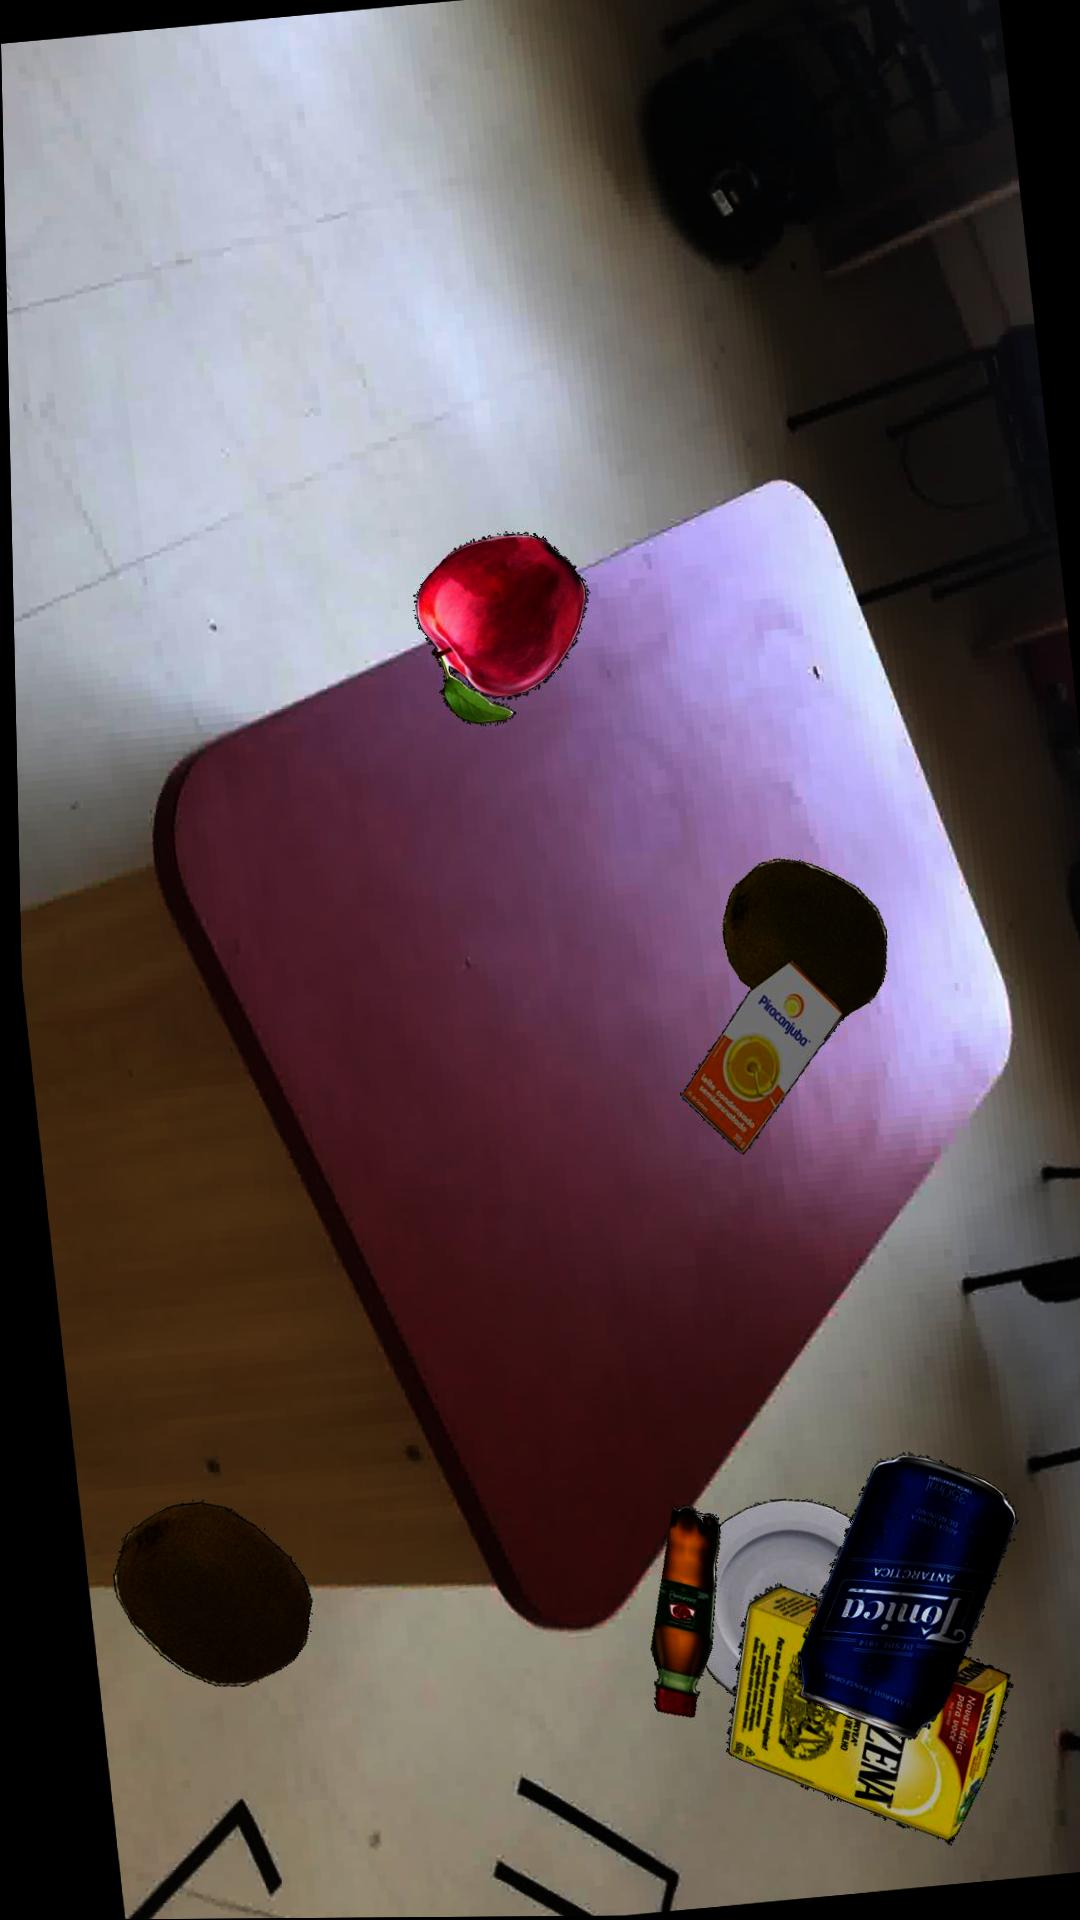apple: (410, 535, 582, 727)
guarana: (641, 1509, 712, 1720)
kiwi: (104, 1505, 303, 1688), (716, 861, 881, 1021)
plate: (696, 1502, 843, 1698)
tonic: (789, 1457, 1007, 1743)
